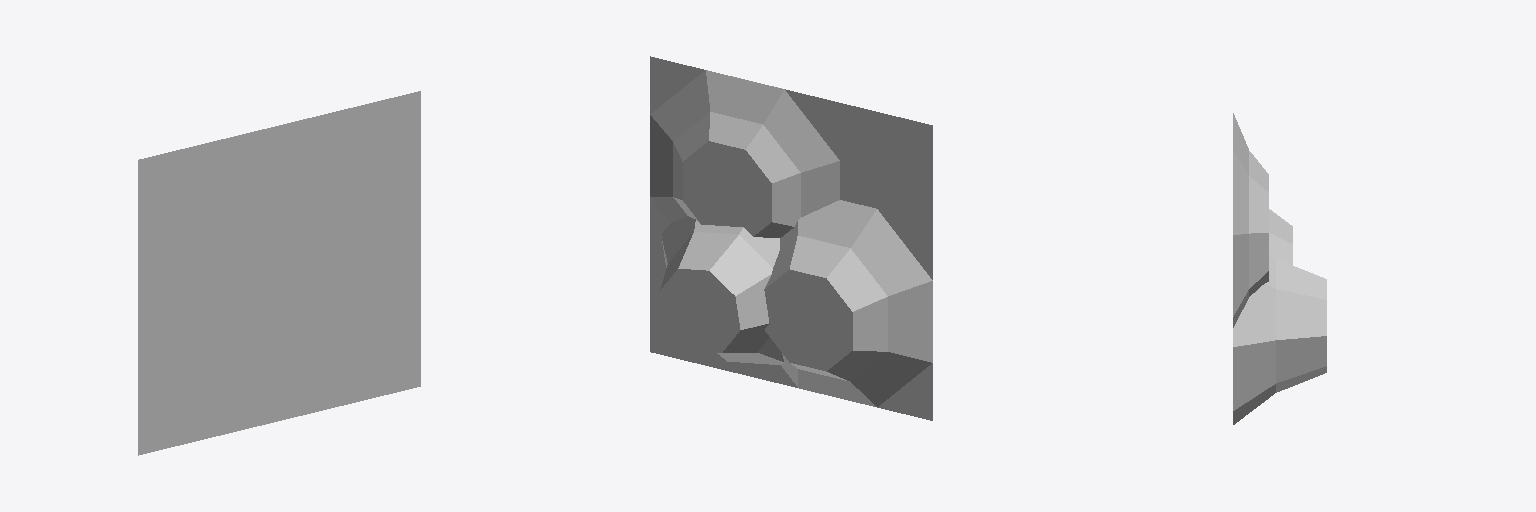
The model's file is ground-hills.obj.
3 renders of one model, left to right at view 1: azimuth 30°, elevation 25°; view 2: azimuth 150°, elevation 25°; view 3: azimuth 270°, elevation 25°, orthographic.
Parts seen in each view (by area): view 1: ground-hills.056; view 2: ground-hills.056; view 3: ground-hills.056.
Part boxes in pixels (bbox=[...]): ground-hills.056: bbox=[138, 91, 420, 455]; ground-hills.056: bbox=[650, 56, 932, 420]; ground-hills.056: bbox=[1233, 113, 1326, 424].
Bounding box in the file's own units: 1 × 1 × 0.2883.